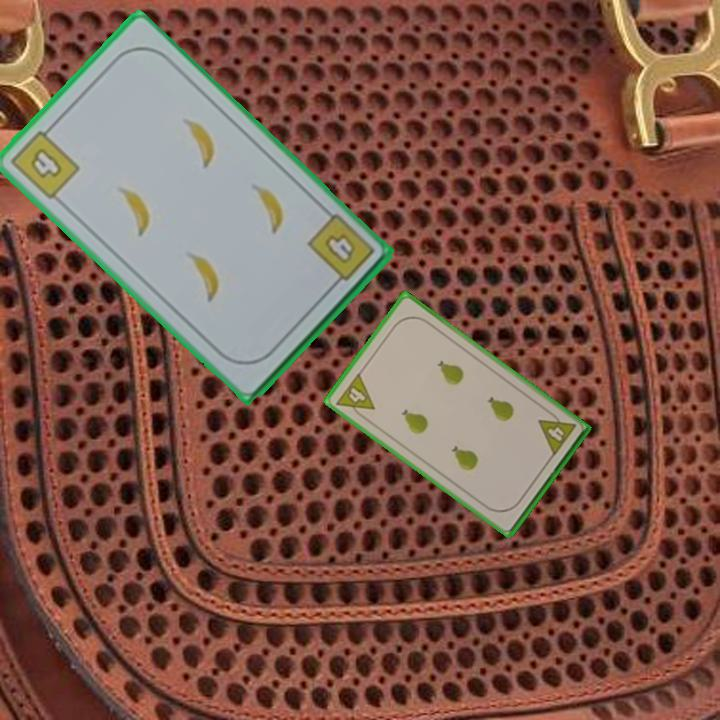4b: (6, 120, 83, 203), (303, 209, 378, 292)
4p: (332, 369, 378, 423), (535, 406, 579, 459)
